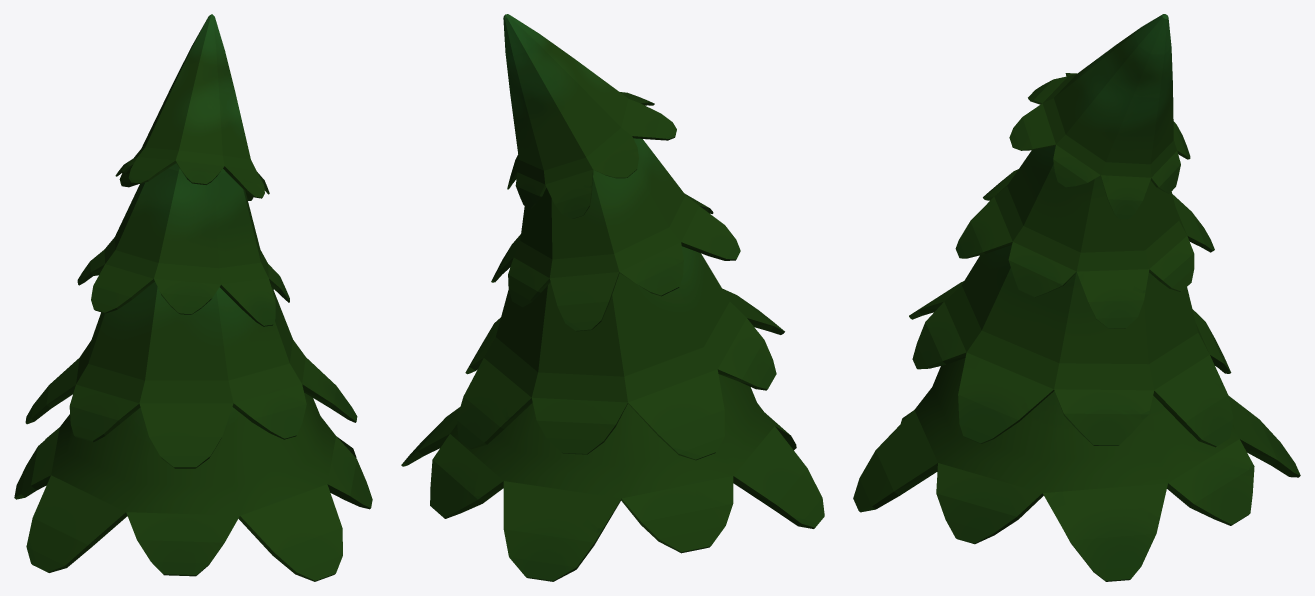
The model's file is 4_Tort.FBX.
3 views of the same model, side by side, from view 1: azimuth 30°, elevation 25°; view 2: azimuth 150°, elevation 25°; view 3: azimuth 270°, elevation 25° (orthographic). The views are drawn at different scales.
Visible parts, largest first — view 1: 4_TORT; view 2: 4_TORT; view 3: 4_TORT.
Boxes of the visible parts, box(x1,y1,x2,y2) form: 4_TORT: box(14, 14, 372, 581); 4_TORT: box(401, 14, 824, 581); 4_TORT: box(853, 14, 1300, 581).
Size of the model in its own units: 1.33 by 1.66 by 1.33.
